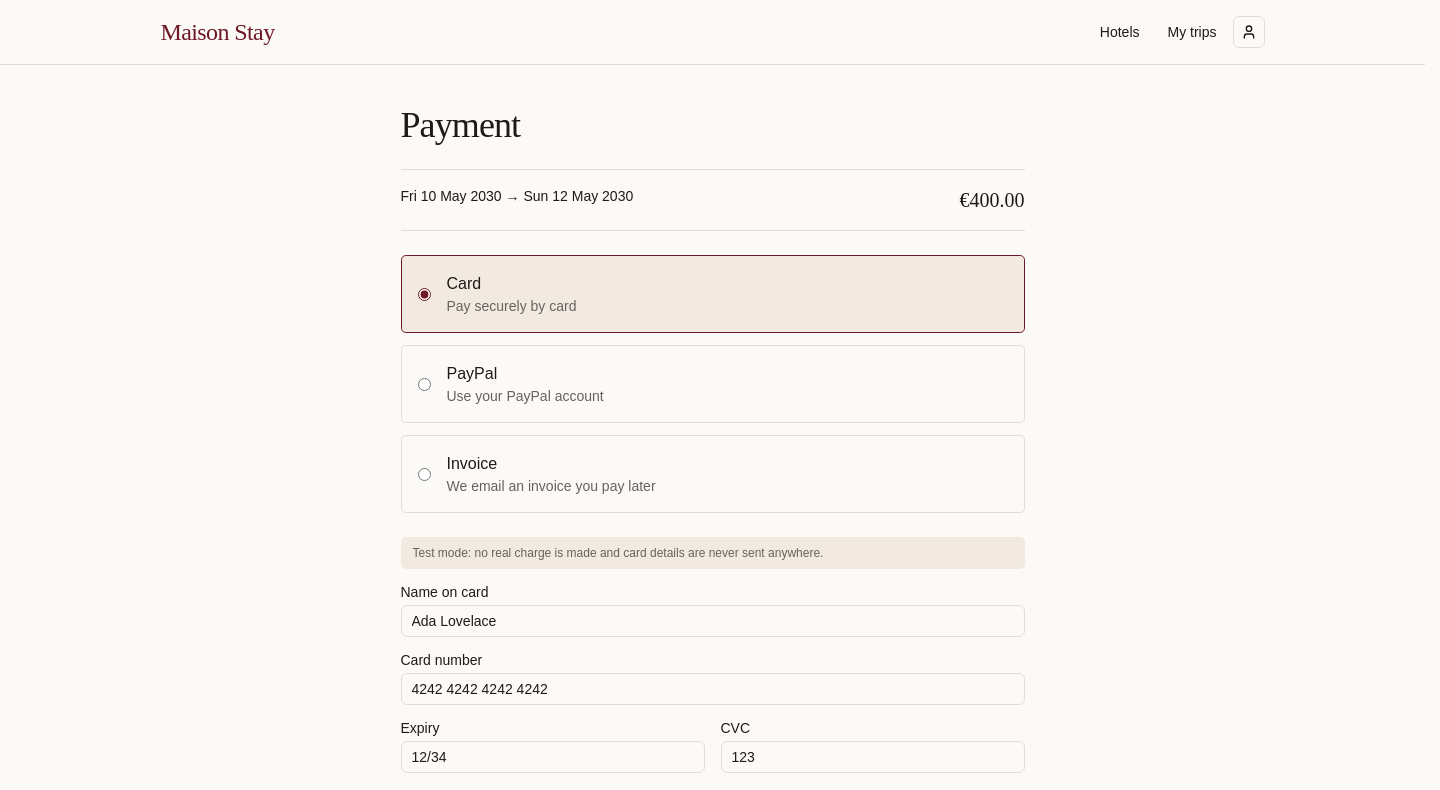
payment › blocks an invalid card before anything is sent
The width and height of the screenshot is (1440, 790).
Replace the text in the field labelled "Card number" with "1234" at (712, 689), box x1=400 y1=673 x2=1024 y2=705
(page scrolled)
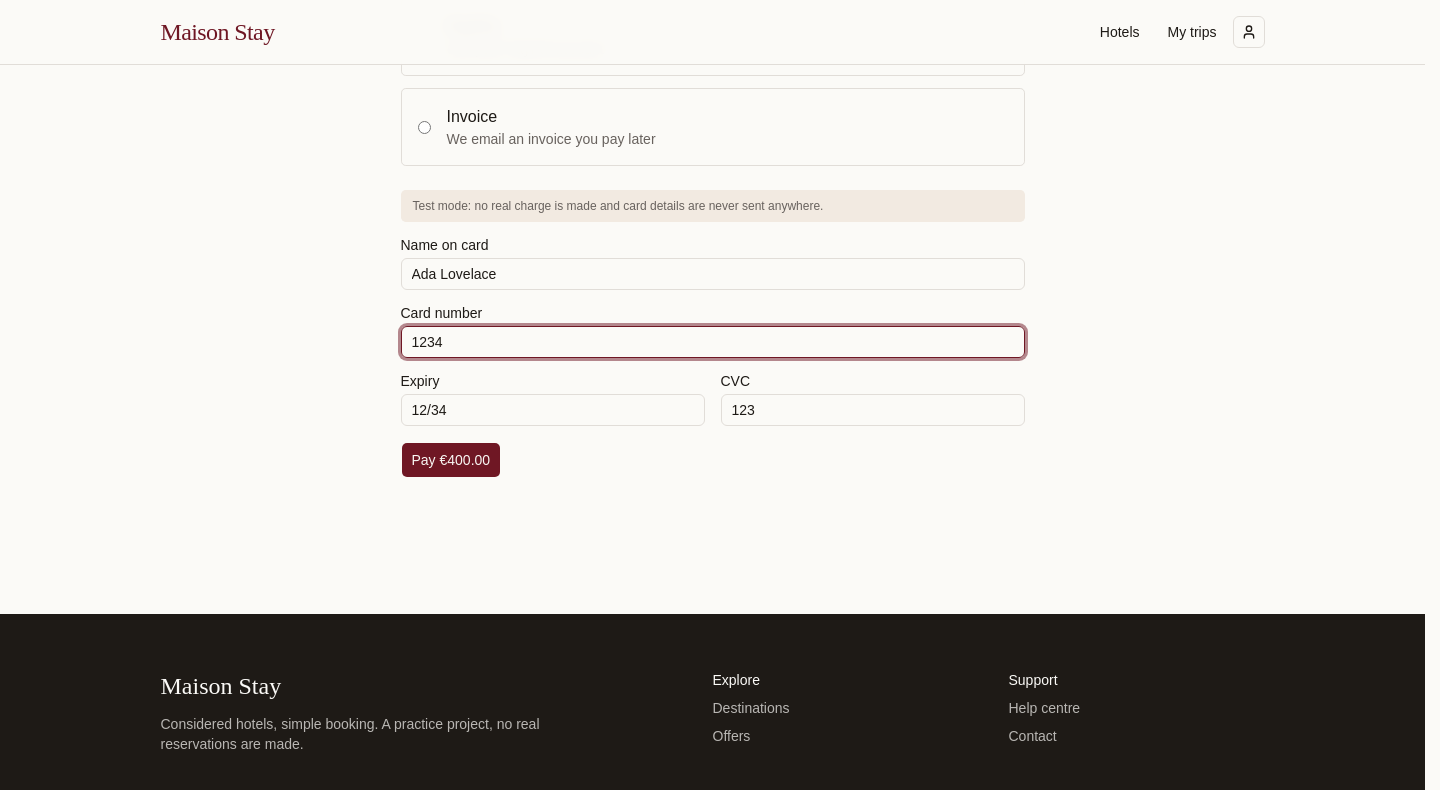
Click the button "Pay €400.00" at (451, 460), box x1=400 y1=442 x2=501 y2=478
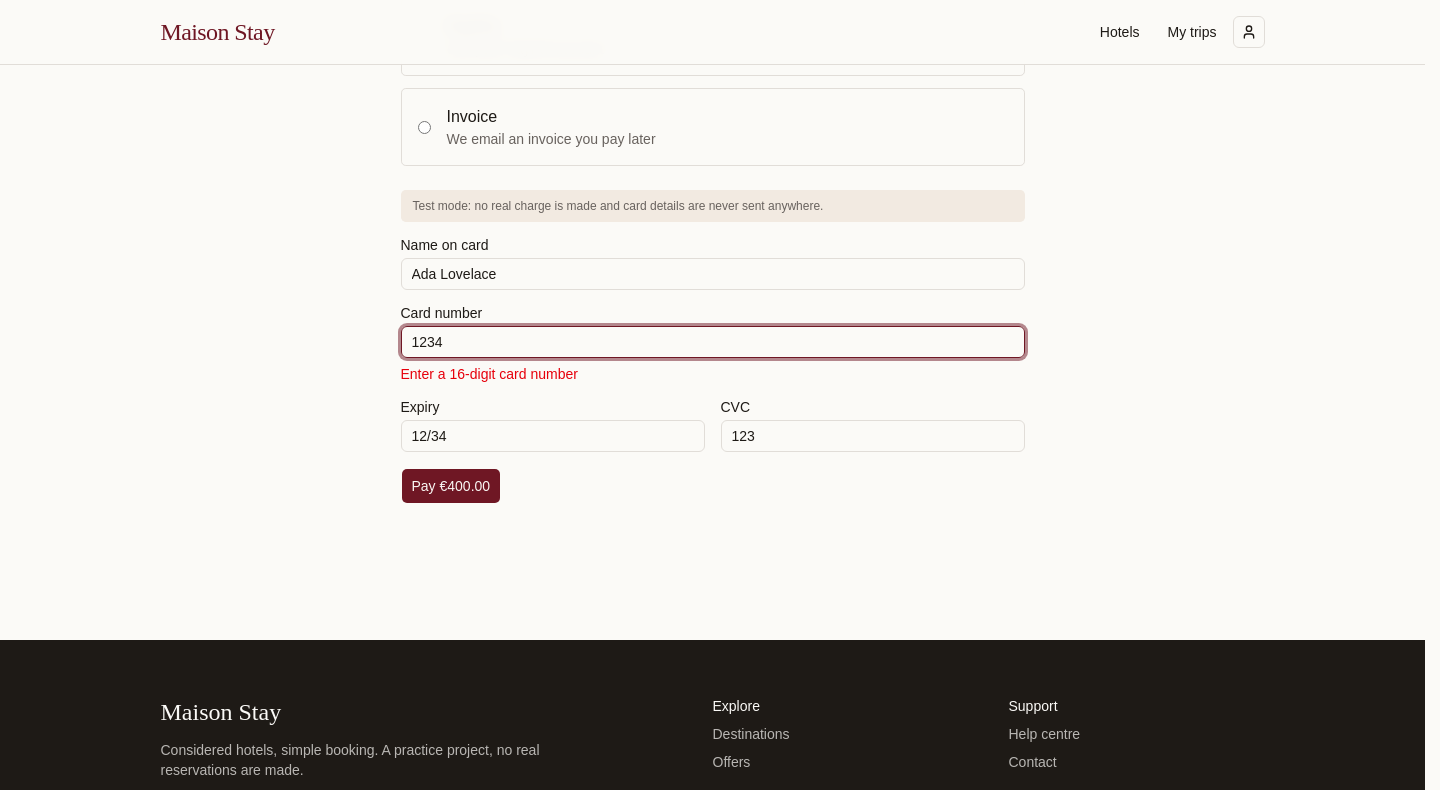
Now the text "Enter a 16-digit card number" is shown, box x1=400 y1=366 x2=578 y2=382
